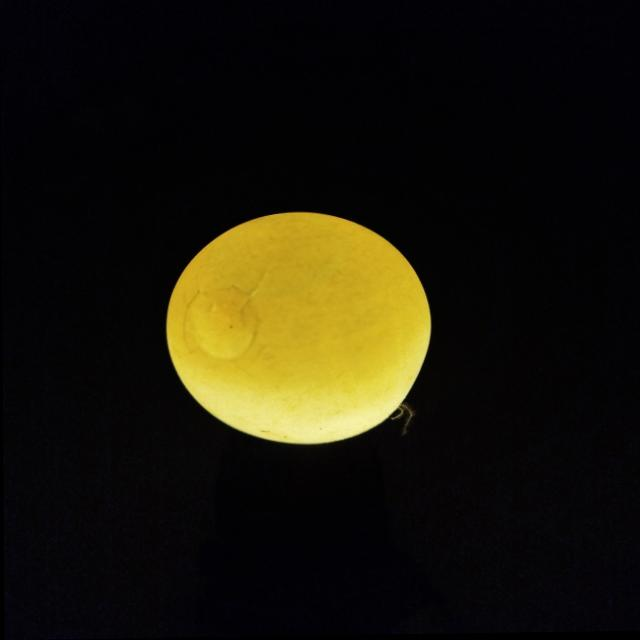Rachadura: (181, 274, 268, 373)
